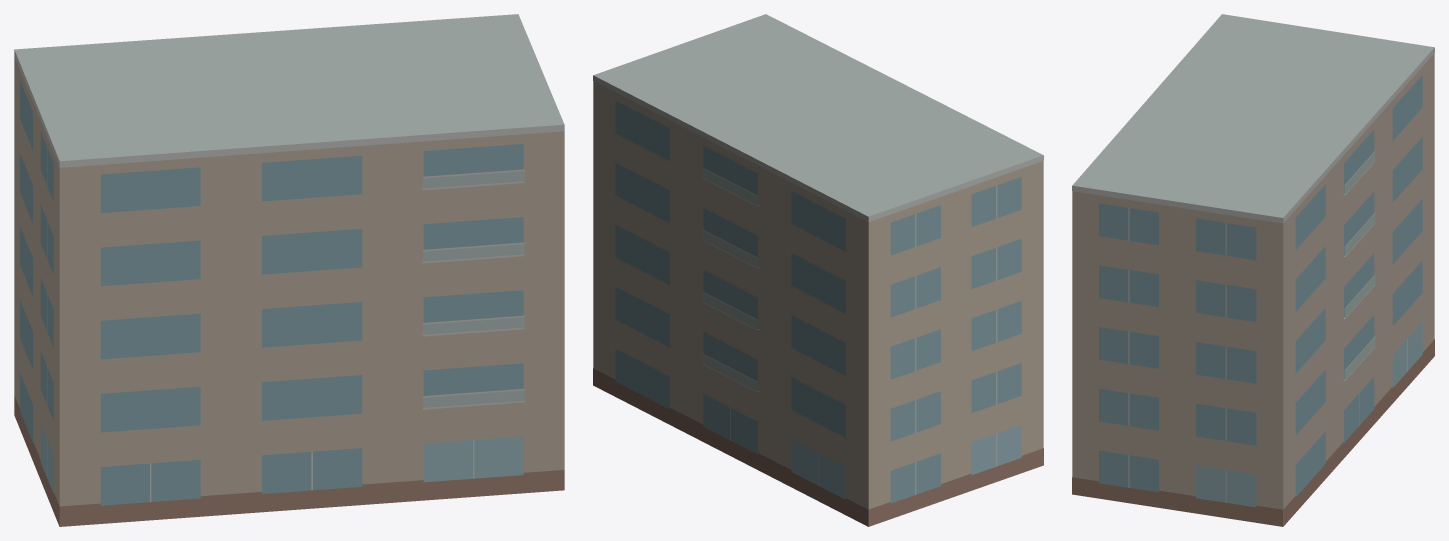
Rendered from survey-upis-32888556.glb.
The picture shows the model from 3 angles, left to right: view 1: azimuth 30°, elevation 25°; view 2: azimuth 150°, elevation 25°; view 3: azimuth 270°, elevation 25°; orthographic projection. The views are drawn at different scales.
Parts seen in each view (by area): view 1: survey-upis-32888556.tmp; view 2: survey-upis-32888556.tmp; view 3: survey-upis-32888556.tmp.
Boxes of the visible parts, box(x1,y1,x2,y2) form: survey-upis-32888556.tmp: box(14, 14, 564, 526); survey-upis-32888556.tmp: box(593, 14, 1043, 526); survey-upis-32888556.tmp: box(1072, 14, 1434, 526).
Size of the model in its own units: 19.28 by 13.6 by 14.48.
